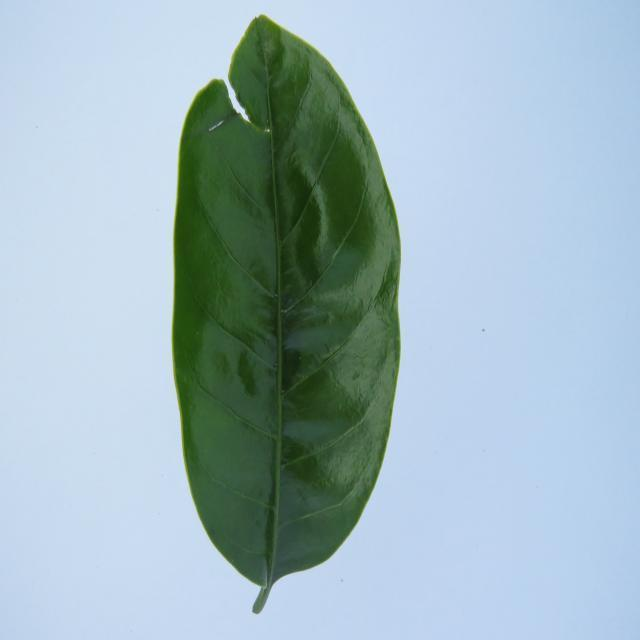DeficienciaNutricional-Boro: (172, 15, 400, 613)
